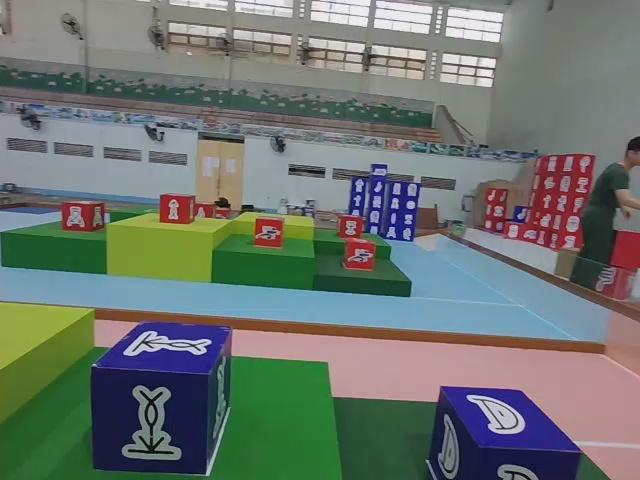R2 Real Blue: (90, 320, 234, 479), (428, 388, 579, 480)
